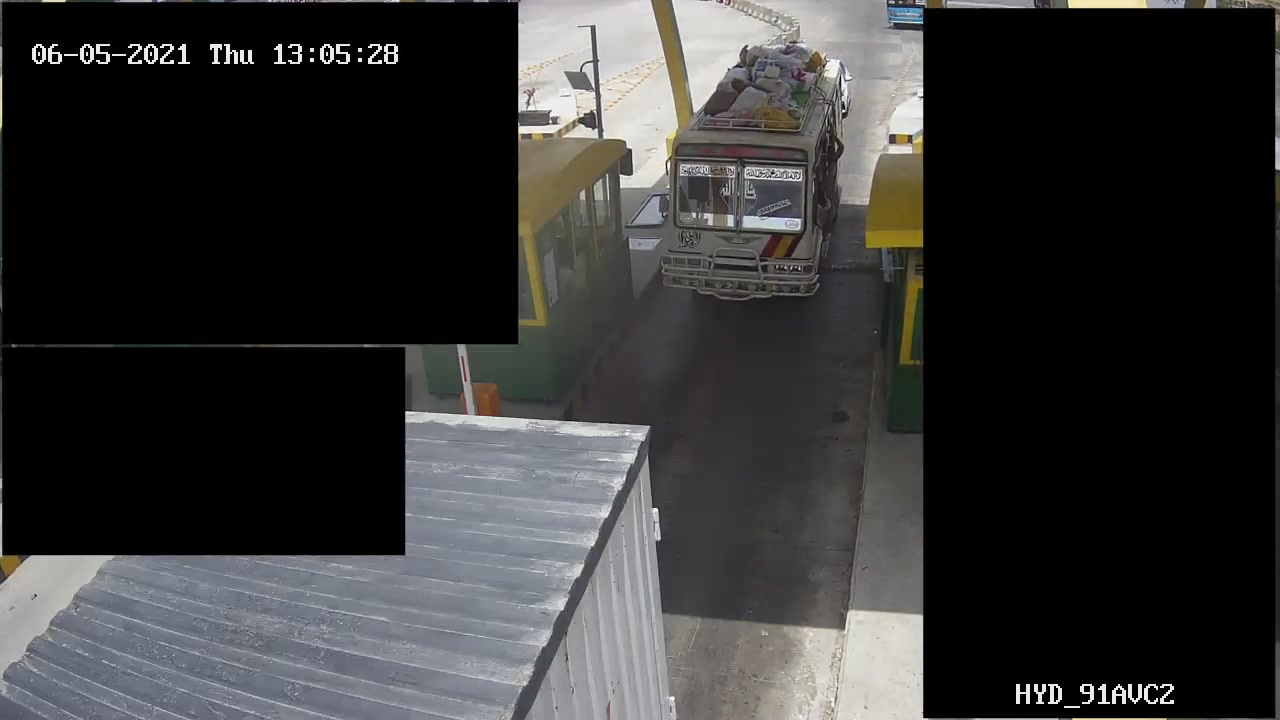F4: (648, 35, 853, 303)
